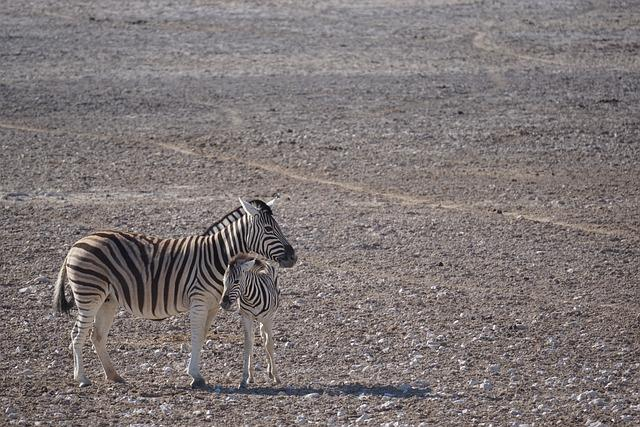Non_Gorille: (51, 179, 384, 389)
